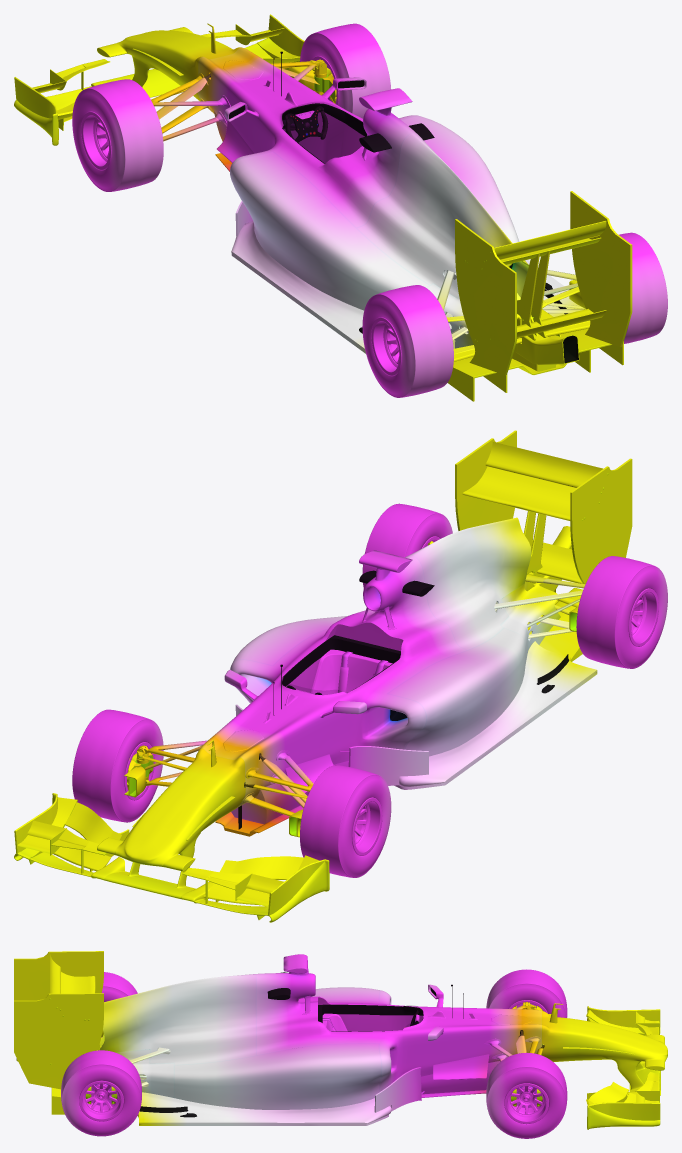
Rendered from openwheel1.glb.
3 renders of one model, top to bottom at view 1: azimuth 30°, elevation 25°; view 2: azimuth 150°, elevation 25°; view 3: azimuth 270°, elevation 25°, orthographic. The views are drawn at different scales.
Parts seen in each view (by area): view 1: misc_e, bodyshell, extra_5, chassis, extra_4, extra_6, wheel_lf, wheel_lr, wheel_rf, wheel_rr, steeringwheel, extra_2 (+1 smaller); view 2: bodyshell, extra_6, chassis, misc_e, extra_5, extra_4, wheel_lr, wheel_lf, wheel_rf, wheel_rr, extra_2, hub_rf; view 3: bodyshell, extra_5, extra_4, misc_e, chassis, extra_6, wheel_rf, wheel_rr, wheel_lf, extra_3, wheel_lr.
Boxes of the visible parts, x1,y1,x2,y2 form: misc_e: (455, 191, 632, 375); bodyshell: (198, 47, 434, 236); extra_5: (230, 116, 519, 310); chassis: (151, 59, 623, 401); extra_4: (356, 133, 528, 300); extra_6: (14, 14, 304, 145); wheel_lf: (72, 79, 163, 191); wheel_lr: (362, 285, 453, 397); wheel_rf: (300, 23, 391, 118); wheel_rr: (619, 232, 667, 343); steeringwheel: (284, 106, 328, 142); extra_2: (426, 283, 473, 348); bodyshell: (200, 550, 467, 829); extra_6: (14, 739, 329, 922); chassis: (136, 526, 597, 836); misc_e: (455, 430, 632, 584); extra_5: (232, 615, 525, 756); extra_4: (409, 517, 531, 649); wheel_lr: (576, 556, 667, 668); wheel_lf: (300, 765, 391, 877); wheel_rf: (72, 709, 163, 822); wheel_rr: (362, 503, 452, 588); extra_2: (500, 583, 560, 665); hub_rf: (124, 753, 153, 797); bodyshell: (256, 954, 544, 1112); extra_5: (174, 987, 381, 1109); extra_4: (100, 974, 256, 1065); misc_e: (14, 951, 103, 1089); chassis: (16, 997, 543, 1125); extra_6: (542, 1003, 667, 1129); wheel_rf: (486, 1052, 567, 1138); wheel_rr: (61, 1050, 141, 1136); wheel_lf: (486, 969, 567, 1017); extra_3: (116, 1049, 174, 1097); wheel_lr: (101, 972, 137, 1037).
Bounding box in the file's own units: 1.96 × 1.17 × 5.33.
Materials: 23 (12 with a texture image).
